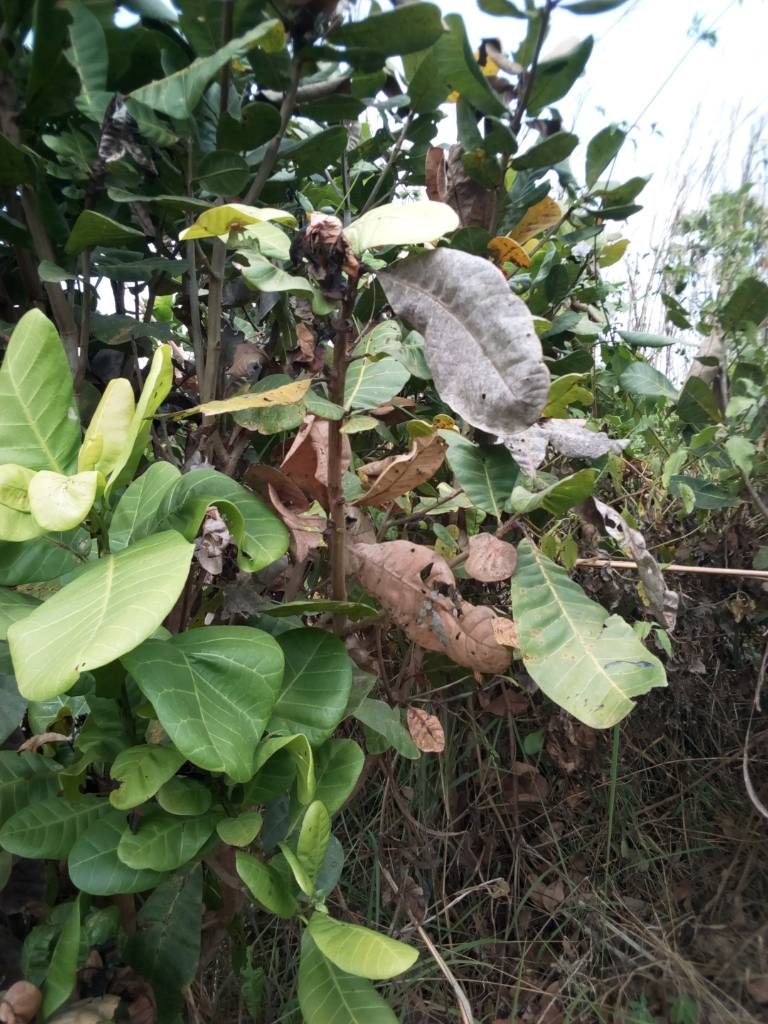Dessèchement des bourgeons: (316, 222, 360, 305)
